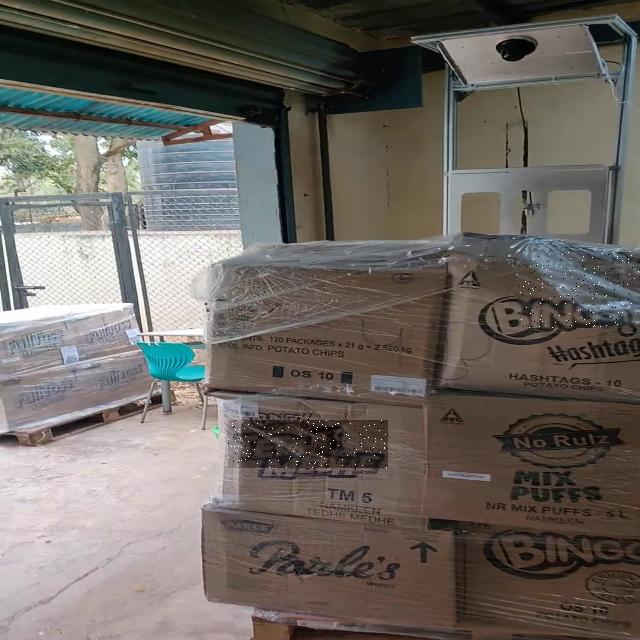squeeze: (519, 252, 639, 328)
tear: (229, 420, 388, 468)
